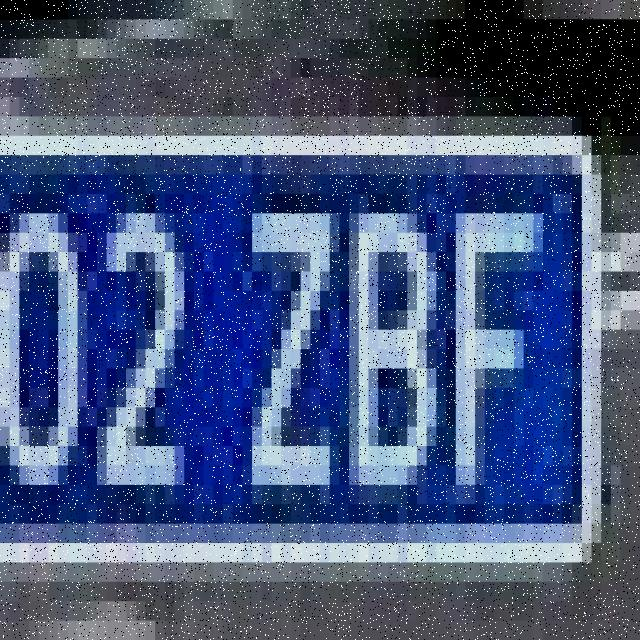licenseplate: (2, 124, 613, 582)
